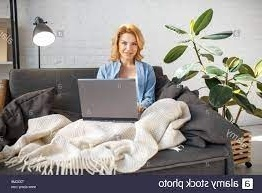not_fallen: (76, 22, 156, 114)
